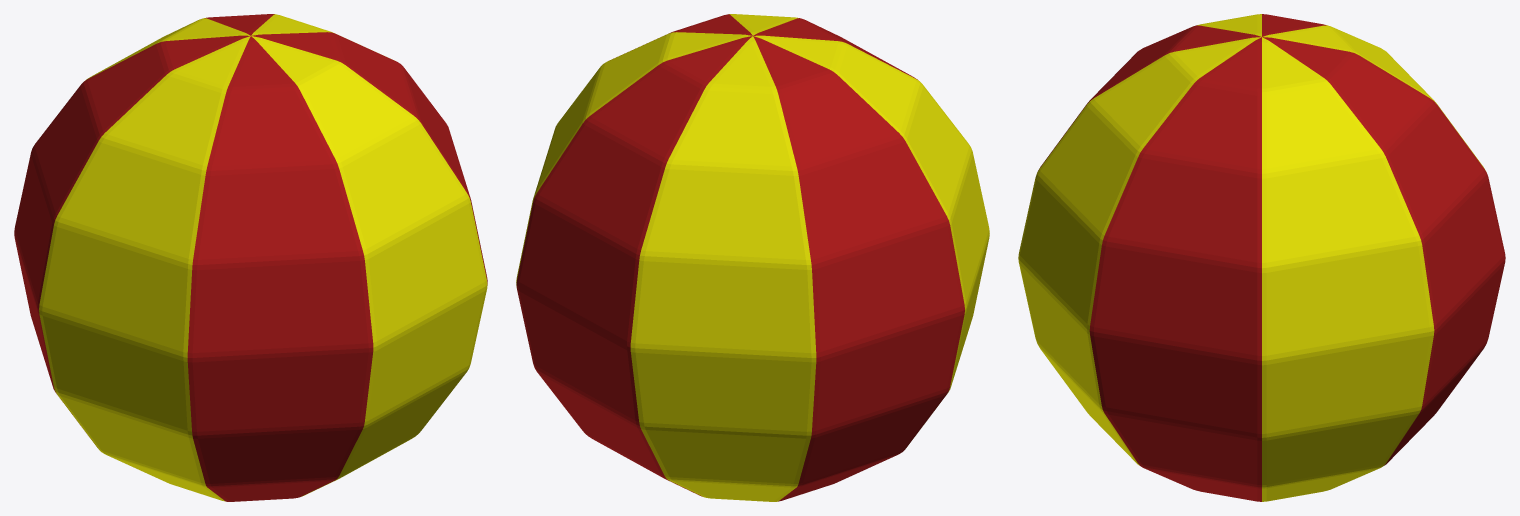
File: Ball.fbx
3 views of the same model, side by side, from view 1: azimuth 30°, elevation 25°; view 2: azimuth 150°, elevation 25°; view 3: azimuth 270°, elevation 25° (orthographic).
Parts seen in each view (by area): view 1: Ball; view 2: Ball; view 3: Ball.
Boxes of the visible parts, left/top/right/bottom form: Ball: left=14, top=14, right=487, bottom=501; Ball: left=516, top=14, right=989, bottom=501; Ball: left=1018, top=14, right=1505, bottom=501.
Size of the model in its own units: 1.99 by 1.99 by 1.99.
